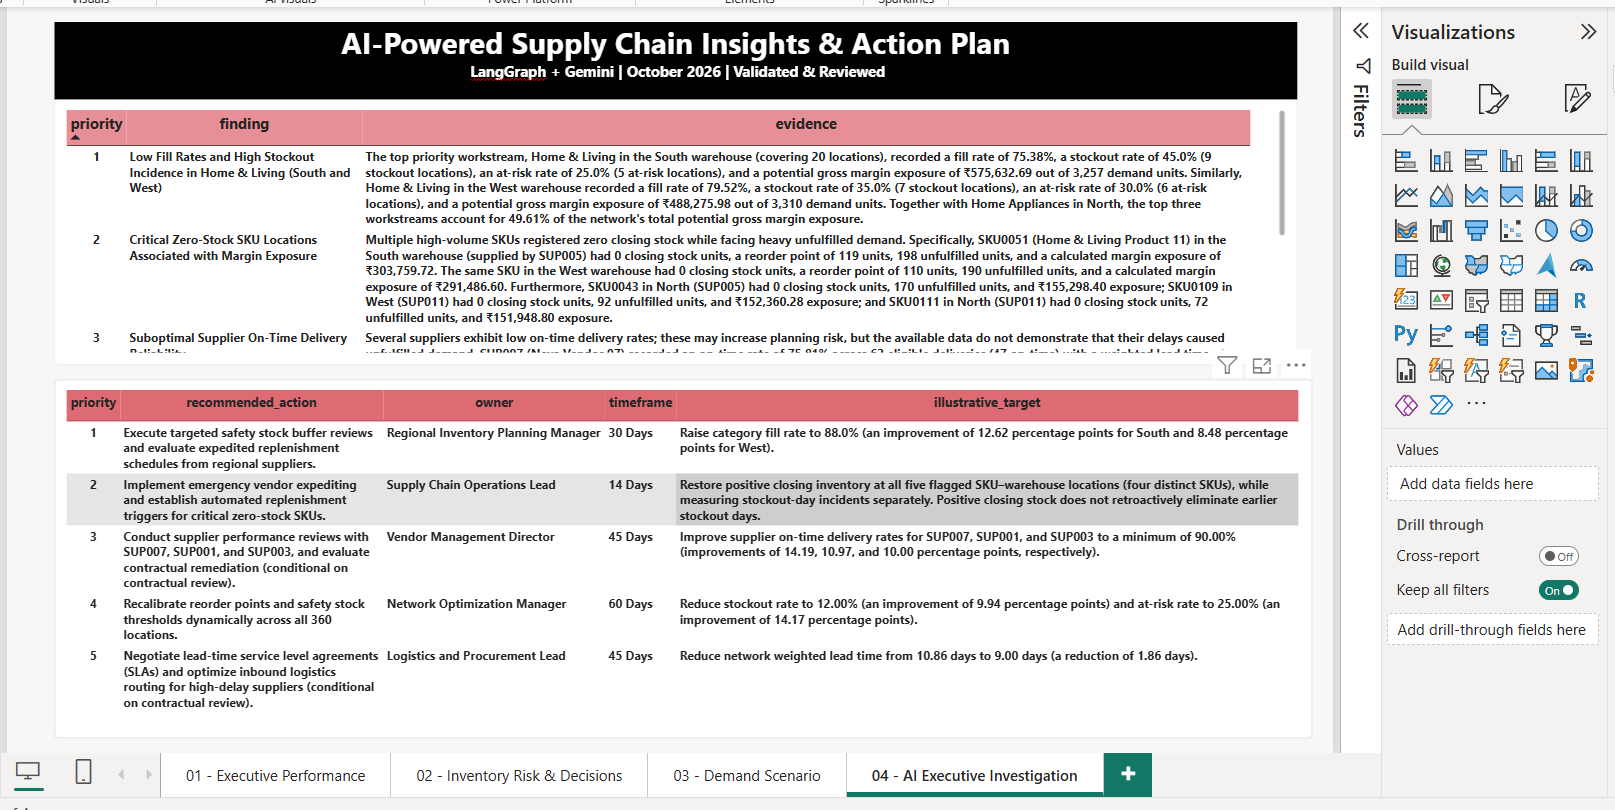

The page's visual inventory and layout, read from the dashboard file:
{"tool":"powerbi","page":{"name":"04 - AI Executive Investigation","canvas":[1920,1080],"ordinal":3},"visuals":[{"type":"tableEx","fields":{"Values":["ai_findings_powerbi.priority","ai_findings_powerbi.finding","ai_findings_powerbi.evidence"]},"box":[68.8,133.9,1798.8,383.6],"z":0},{"type":"textbox","box":[68.8,21.7,1798.8,112.2],"z":1},{"type":"tableEx","fields":{"Values":["ai_findings_powerbi.priority","ai_findings_powerbi.recommended_action","ai_findings_powerbi.owner","ai_findings_powerbi.timeframe","ai_findings_powerbi.illustrative_target"]},"box":[68.8,539.3,1820.5,519.4],"z":2}]}

Visuals, with their boxes on the page's 1920x1080 design canvas (x1, y1, x2, y2). These are canvas units, not pixel positions in the 1615x810 screenshot, which may show the page scaled, cropped or inside an application window:
tableEx - ai_findings_powerbi.priority x ai_findings_powerbi.finding: [x1=69, y1=134, x2=1868, y2=518]
textbox: [x1=69, y1=22, x2=1868, y2=134]
tableEx - ai_findings_powerbi.priority x ai_findings_powerbi.recommended_action: [x1=69, y1=539, x2=1889, y2=1059]
